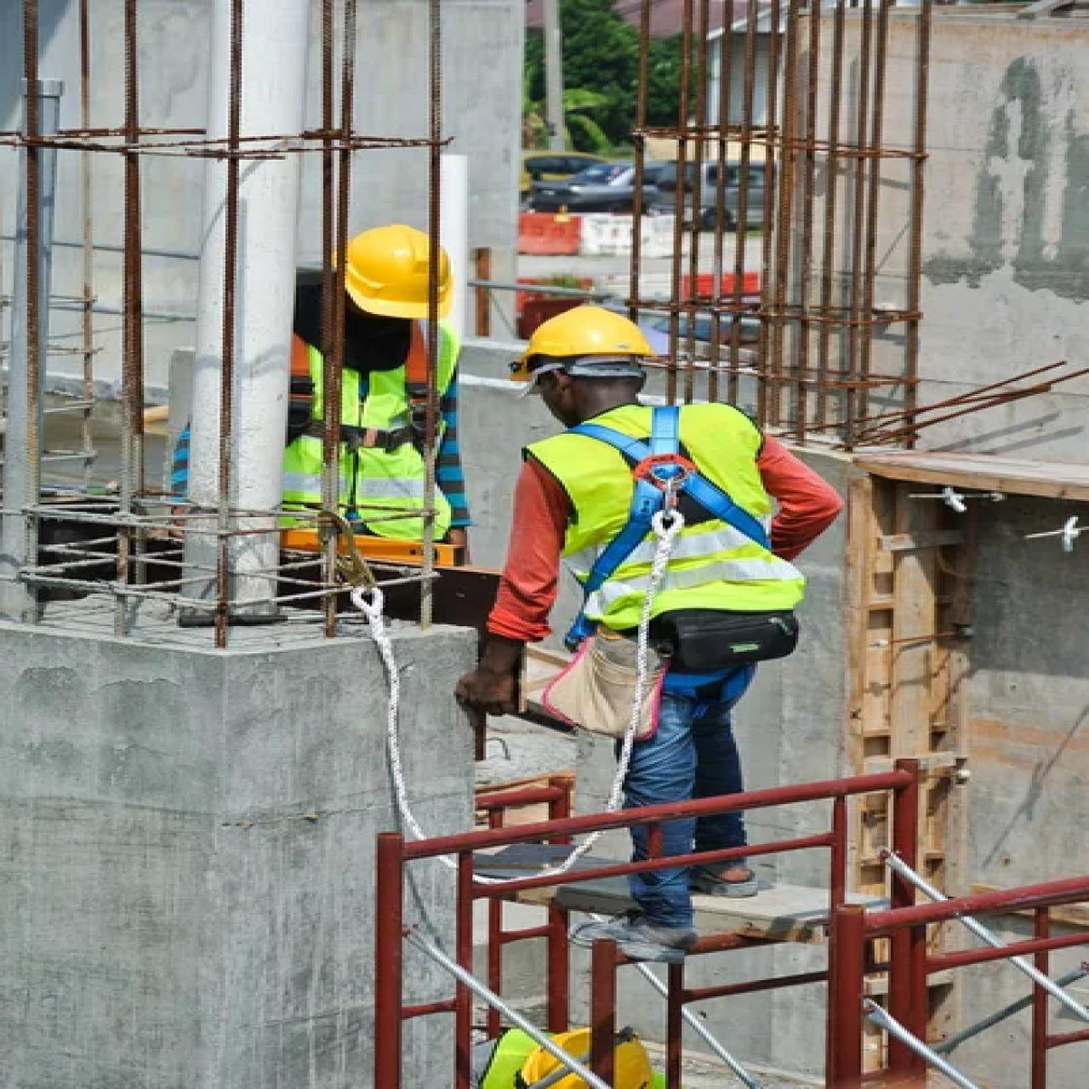Person: (459, 294, 848, 950), (247, 202, 498, 571)
Safety_Vest: (504, 398, 816, 631), (266, 323, 464, 543)
